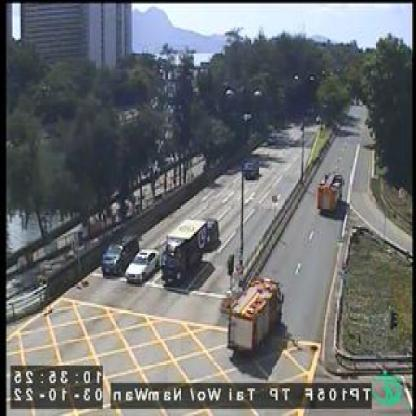Car: (103, 232, 139, 272), (127, 248, 162, 281), (244, 158, 260, 177), (208, 220, 220, 245)
Truck: (230, 274, 285, 350), (164, 218, 209, 284), (317, 170, 346, 210)
